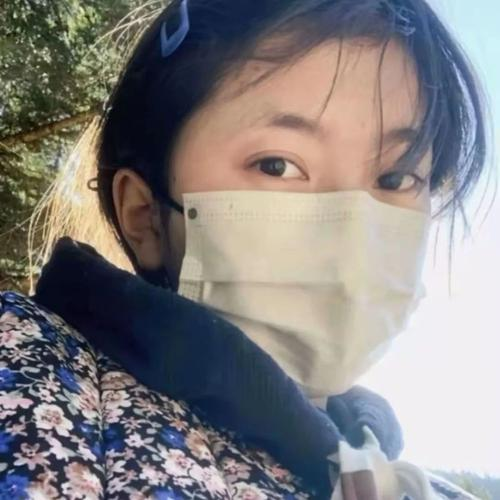mask: (185, 2, 447, 393)
